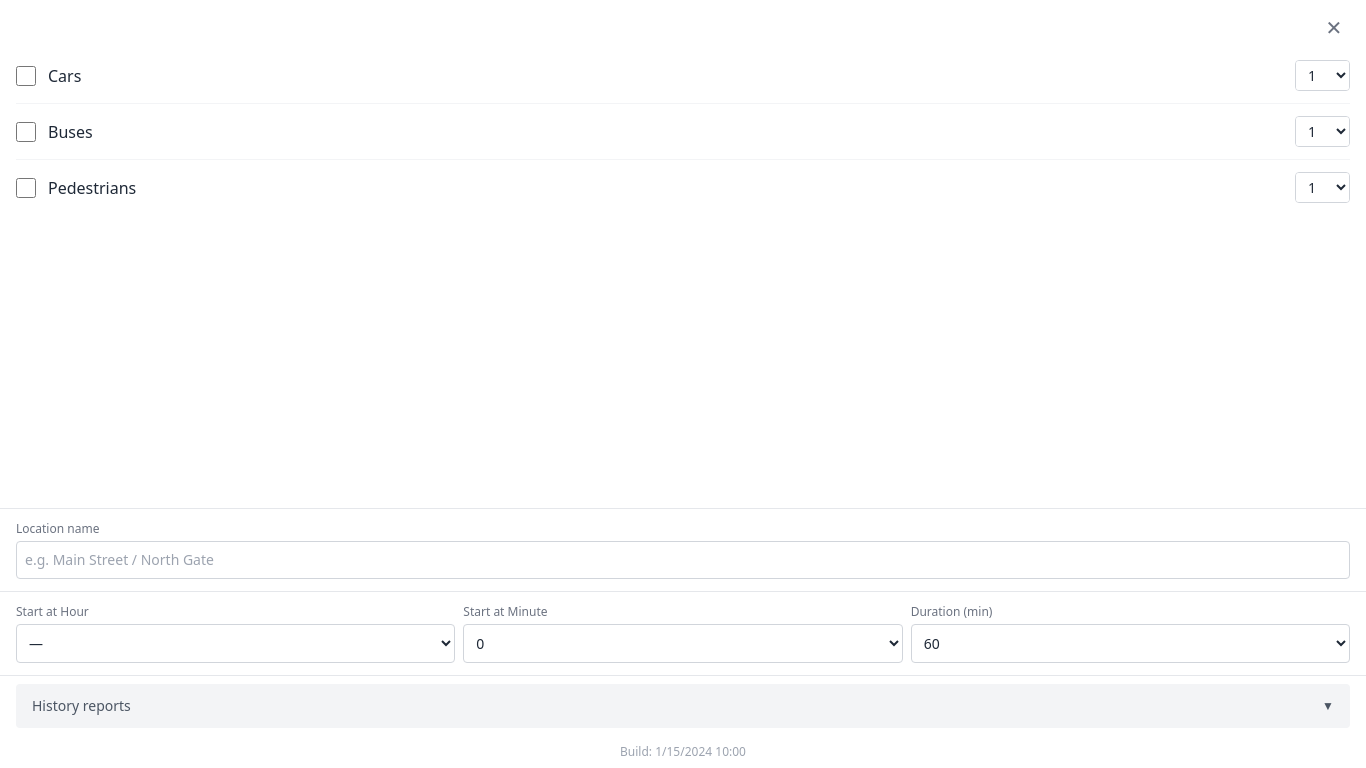
Test case: SettingsModal › history section toggles open/closed
Expected: the text "No history found" is not shown
Click the text "History reports".
click(81, 706)  # box [32,696,131,716]
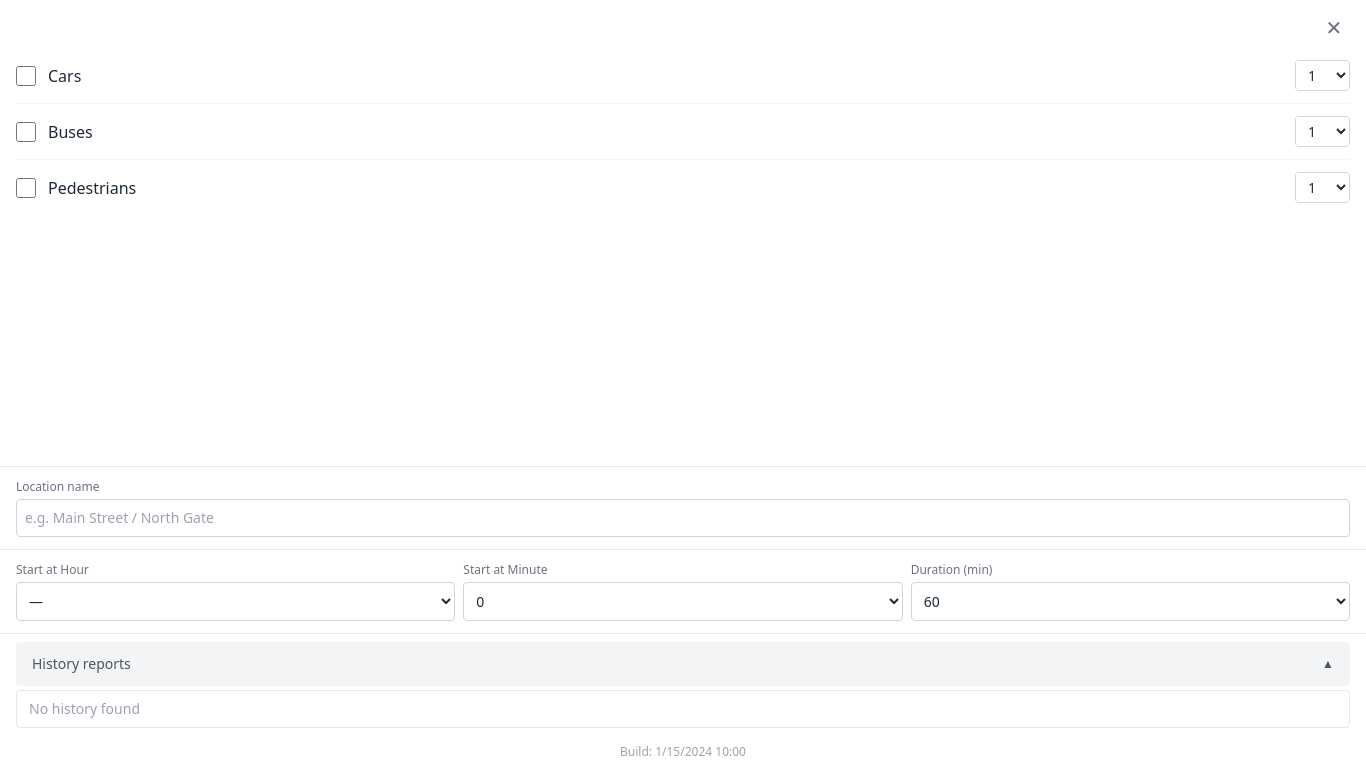
Expected: the text "No history found" is shown, [29,699,140,718]
Click the text "History reports".
click(81, 664)  # box [32,654,131,674]
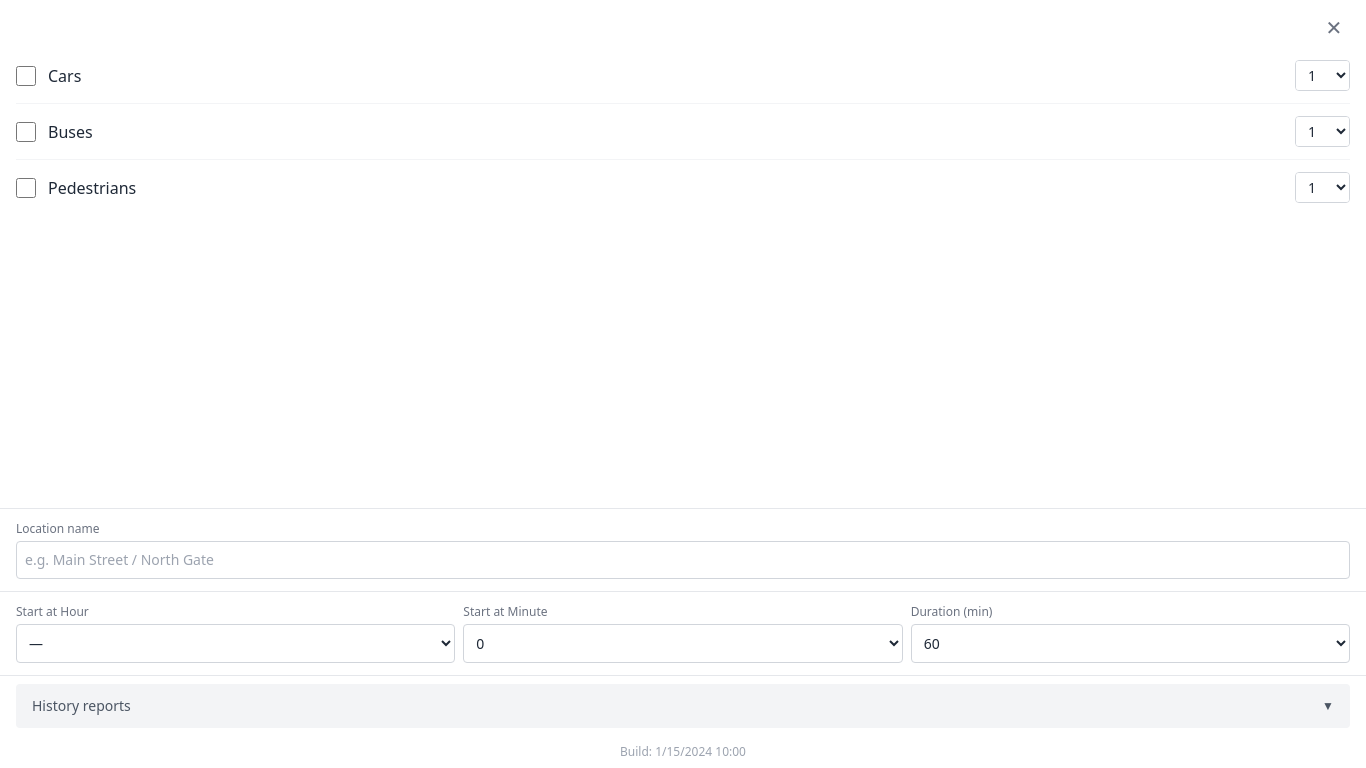
Expected: the text "No history found" is gone
